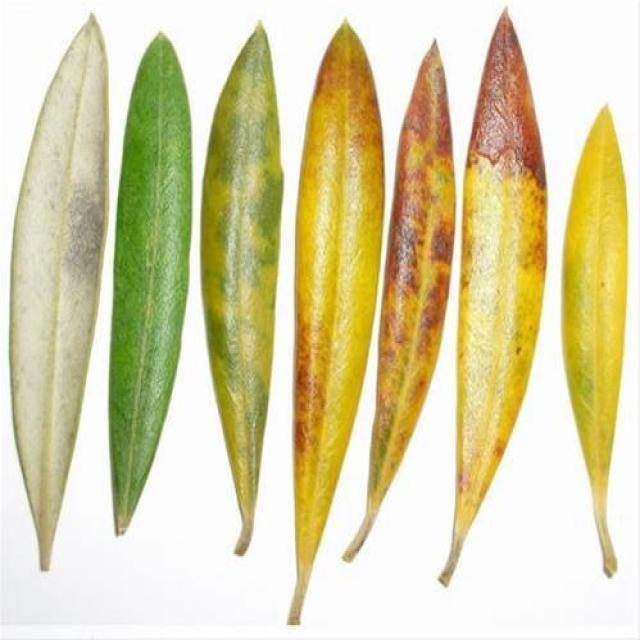OlivePeacockSpot: (438, 11, 544, 584), (12, 20, 106, 562), (295, 24, 381, 570), (202, 26, 282, 532), (369, 43, 454, 495), (562, 108, 626, 492)
